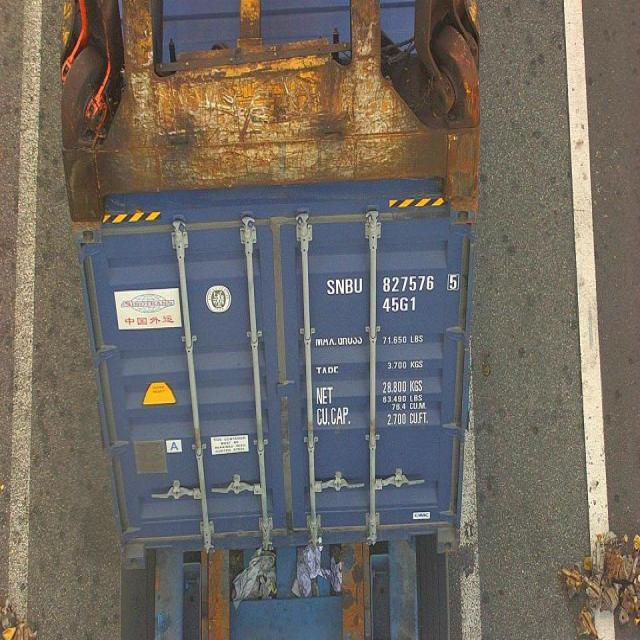ISO: (386, 295, 418, 313)
container_number: (326, 271, 464, 297)
